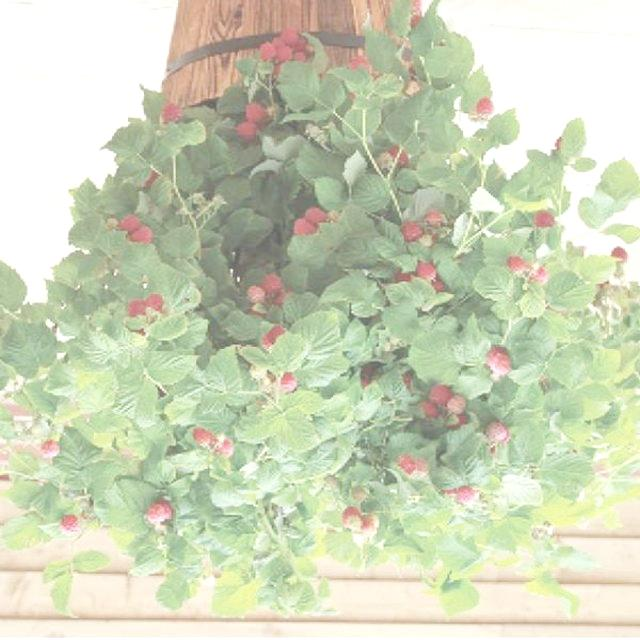ripe: (32, 434, 68, 466), (256, 268, 289, 302), (142, 500, 180, 524), (61, 505, 85, 540), (123, 225, 158, 248), (418, 205, 447, 232), (158, 98, 182, 130), (486, 348, 513, 376), (260, 324, 286, 352), (414, 254, 438, 284), (414, 399, 442, 424), (483, 420, 509, 446), (531, 207, 557, 233), (141, 289, 169, 313), (290, 216, 318, 240), (190, 424, 214, 451), (279, 368, 302, 396), (500, 252, 528, 275), (118, 208, 140, 236), (346, 53, 371, 77), (124, 296, 147, 322), (442, 394, 469, 416), (340, 502, 361, 530), (607, 242, 631, 266), (213, 432, 234, 459), (233, 120, 258, 142), (391, 146, 412, 172), (424, 274, 446, 298), (526, 262, 548, 285), (401, 220, 423, 242), (280, 23, 298, 48), (454, 486, 476, 506), (256, 41, 278, 61), (474, 97, 496, 116), (246, 102, 266, 122), (423, 384, 445, 402), (358, 513, 376, 534), (271, 47, 292, 64)
